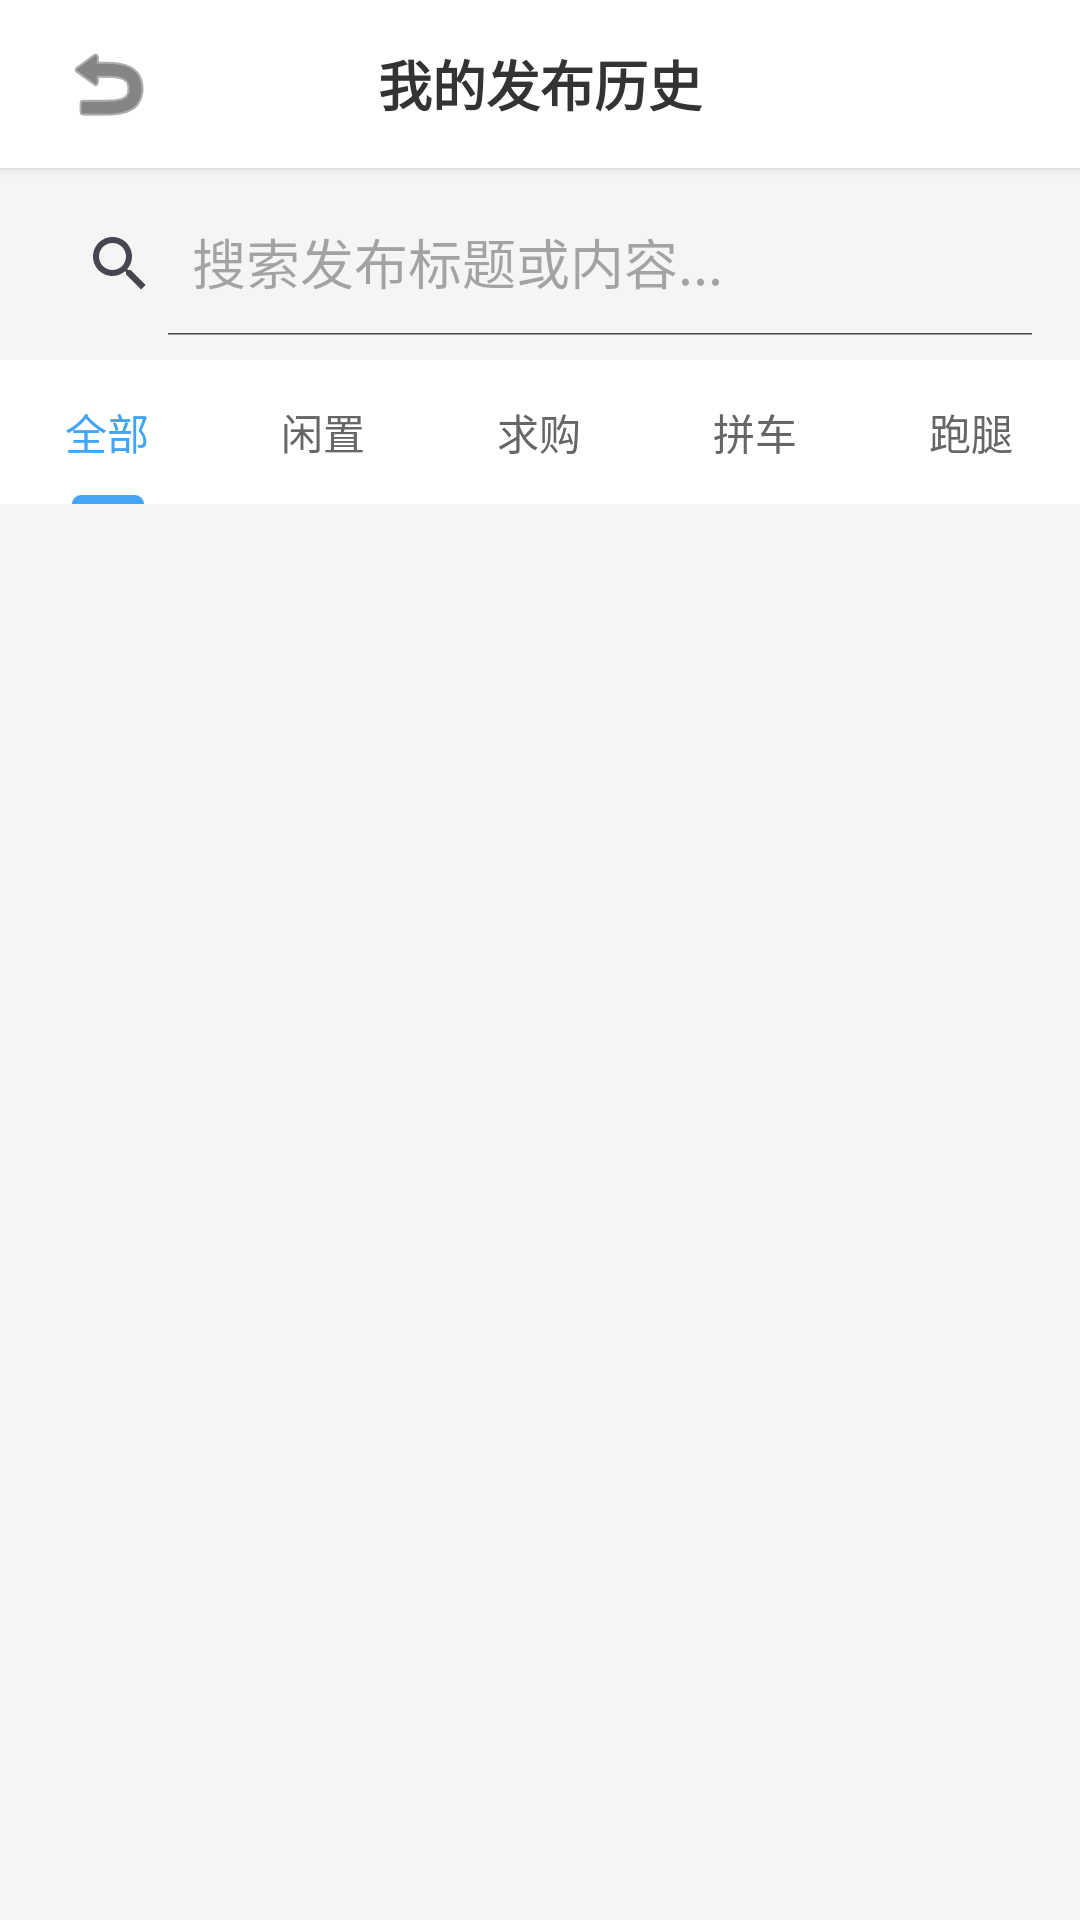

Icon click points for this 1080w x 1920h phone screenshot, format point (x, y):
revert: point (109, 84)
